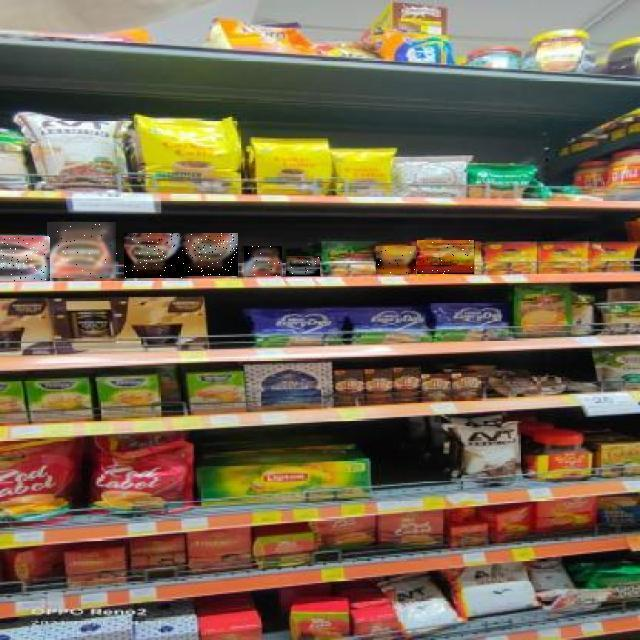Coffee: (48, 222, 118, 278), (124, 233, 182, 278), (180, 233, 238, 276), (1, 236, 51, 281), (418, 240, 478, 274), (244, 247, 282, 277), (376, 246, 416, 274), (286, 256, 320, 276)
